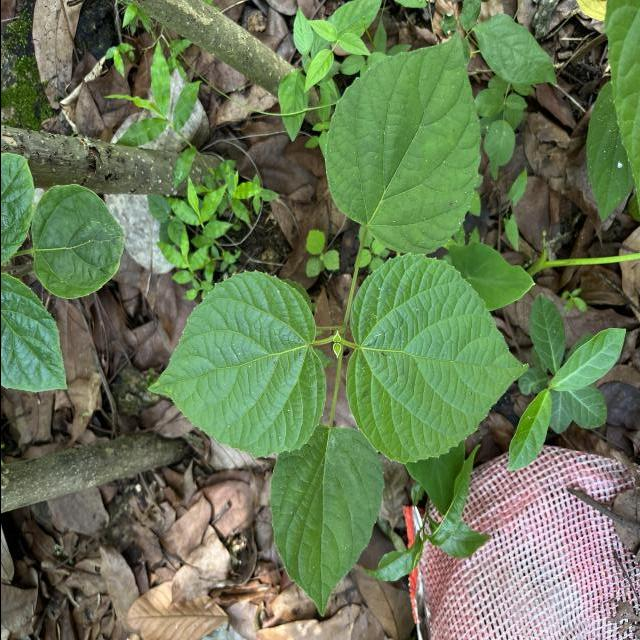Clerodendrum infortunatum: (343, 252, 530, 466), (322, 28, 483, 256), (146, 268, 327, 462), (268, 423, 386, 620)
